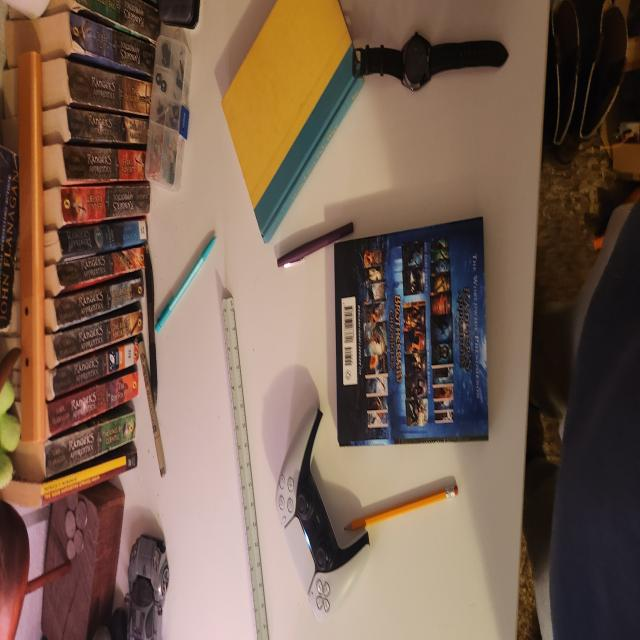Book: (335, 216, 489, 440), (223, 0, 364, 237)
Controller: (281, 416, 370, 579)
Pen: (278, 219, 354, 266)
Pencil: (153, 228, 218, 335)
Watch: (349, 35, 508, 91)
